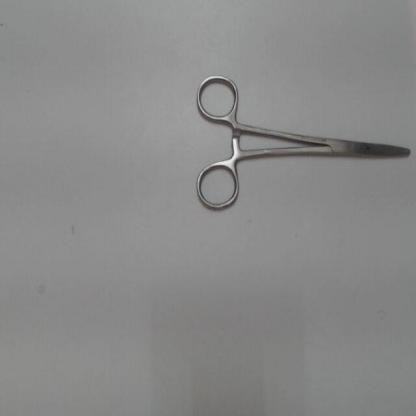Mayo Needle Holder: (189, 68, 414, 221)
